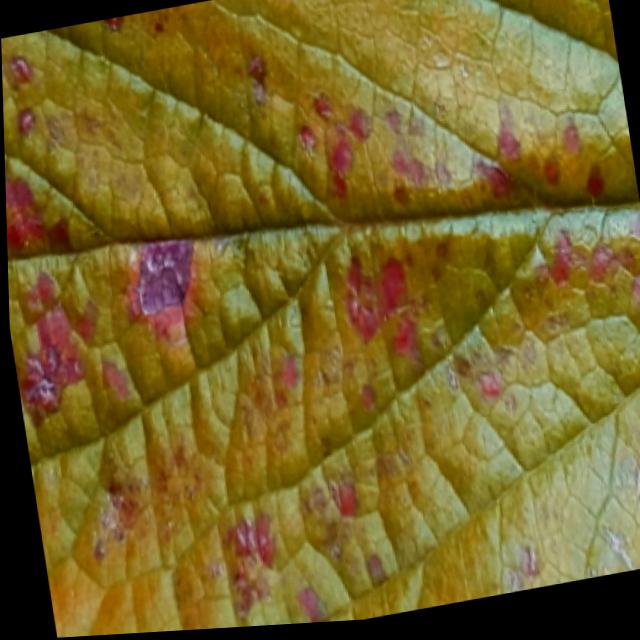Angular Leafspot: (1, 0, 640, 638)
